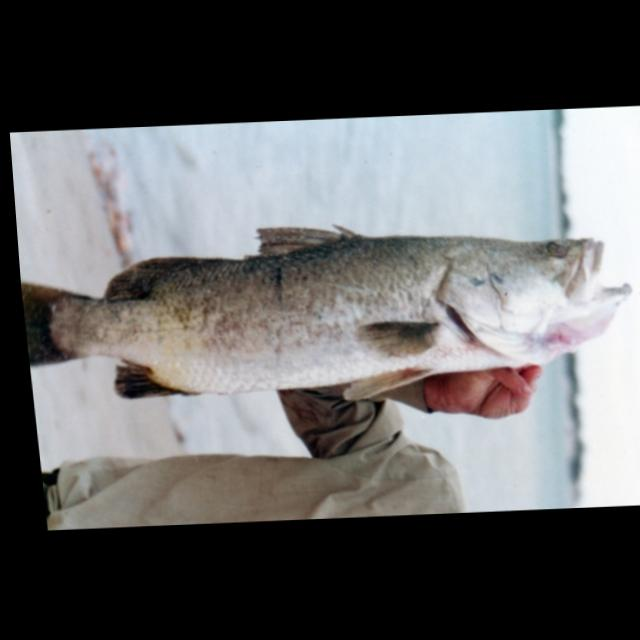Seabass: (16, 206, 640, 413)
